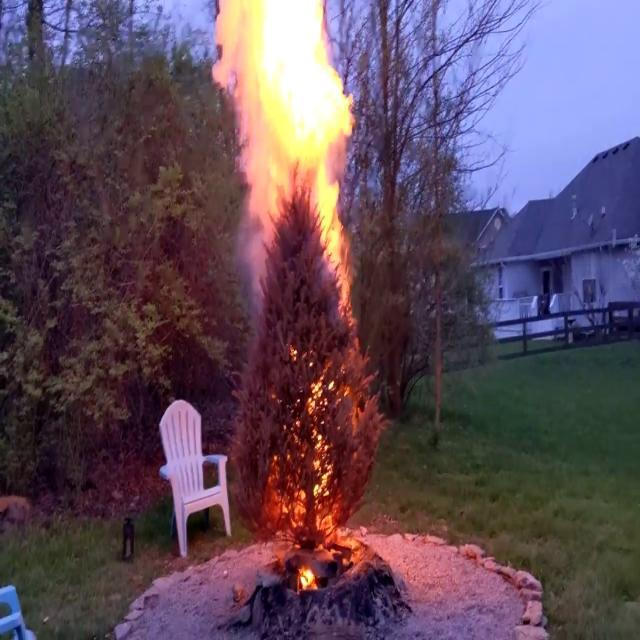Fire: (215, 3, 363, 290), (286, 383, 333, 575), (294, 558, 314, 593)
